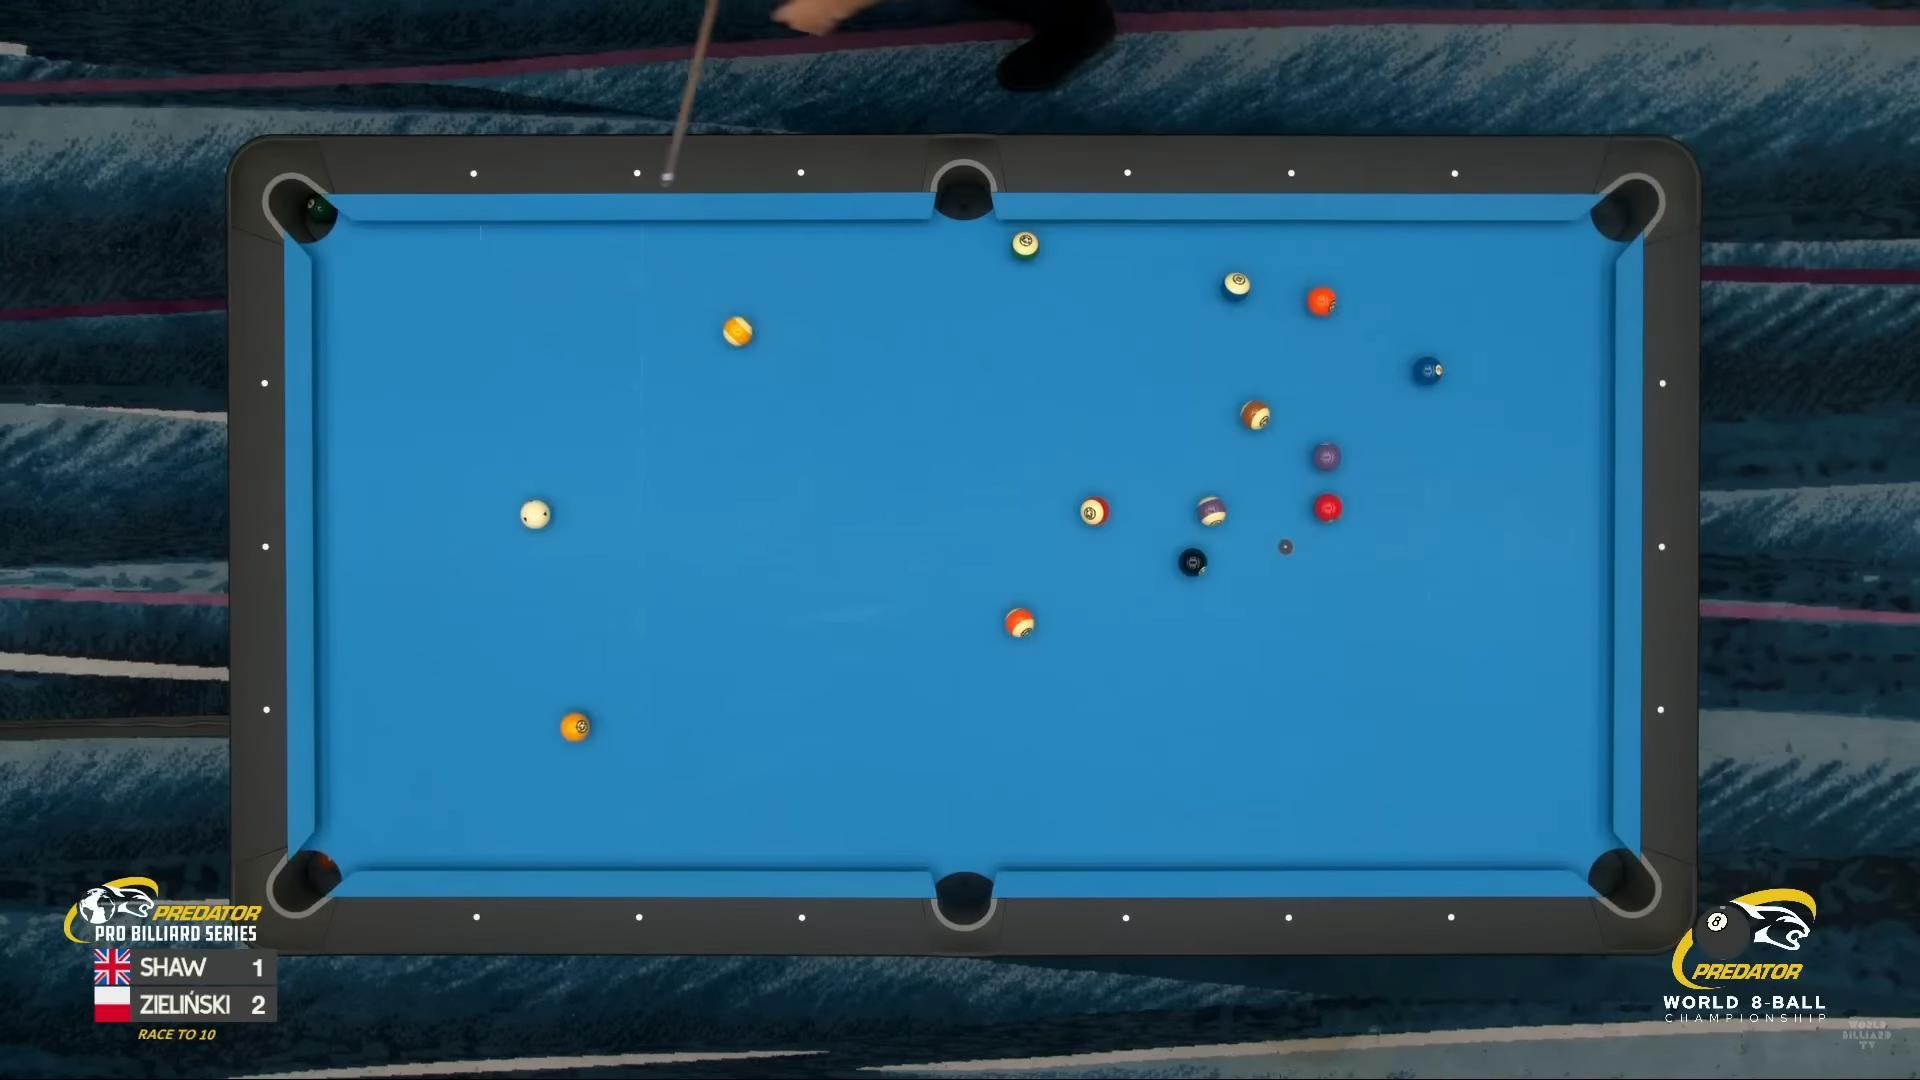Black: (1178, 549, 1207, 578)
Cue: (521, 498, 551, 530)
Dot: (1448, 166, 1462, 181), (1654, 703, 1668, 717), (1444, 910, 1458, 924), (1280, 910, 1295, 924), (1118, 911, 1133, 926), (794, 910, 808, 924), (469, 910, 484, 924), (258, 539, 273, 554), (794, 166, 808, 179), (1121, 166, 1135, 179), (1655, 377, 1669, 390), (1655, 541, 1669, 554), (632, 910, 645, 924), (258, 703, 273, 716), (467, 166, 480, 179), (630, 166, 644, 179), (1284, 166, 1298, 179), (258, 377, 272, 390)
Solid: (560, 712, 591, 742), (1414, 356, 1443, 385), (1307, 287, 1336, 316), (1315, 495, 1342, 524), (1313, 443, 1342, 471)
Striped: (723, 316, 754, 347), (1197, 496, 1226, 526), (1241, 400, 1270, 430), (1080, 497, 1110, 526), (1006, 607, 1034, 638), (1221, 273, 1250, 302), (1011, 232, 1040, 260)
